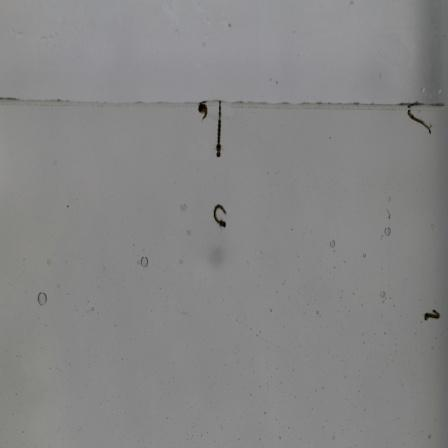Jentik-Nyamuk: (406, 107, 433, 137), (212, 101, 225, 163), (211, 201, 231, 232), (419, 306, 444, 324), (194, 101, 212, 123)
